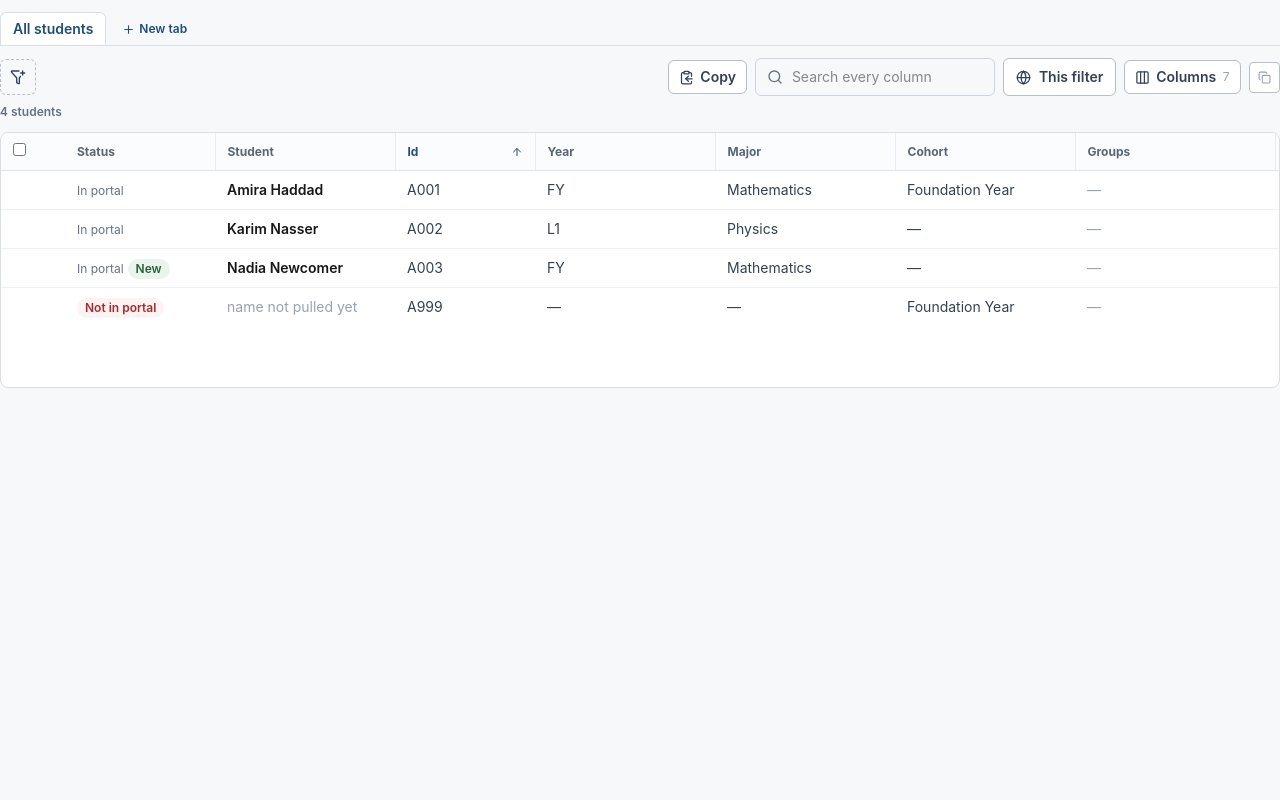
Test case: StudentRoster › column filters › inverts when the operator is changed, keeping the values
The width and height of the screenshot is (1280, 800).
expect the text "Amira Haddad" is shown: met, box [227,181,323,198]
Click the button named "Filter": click(18, 77) [0,59,36,95]
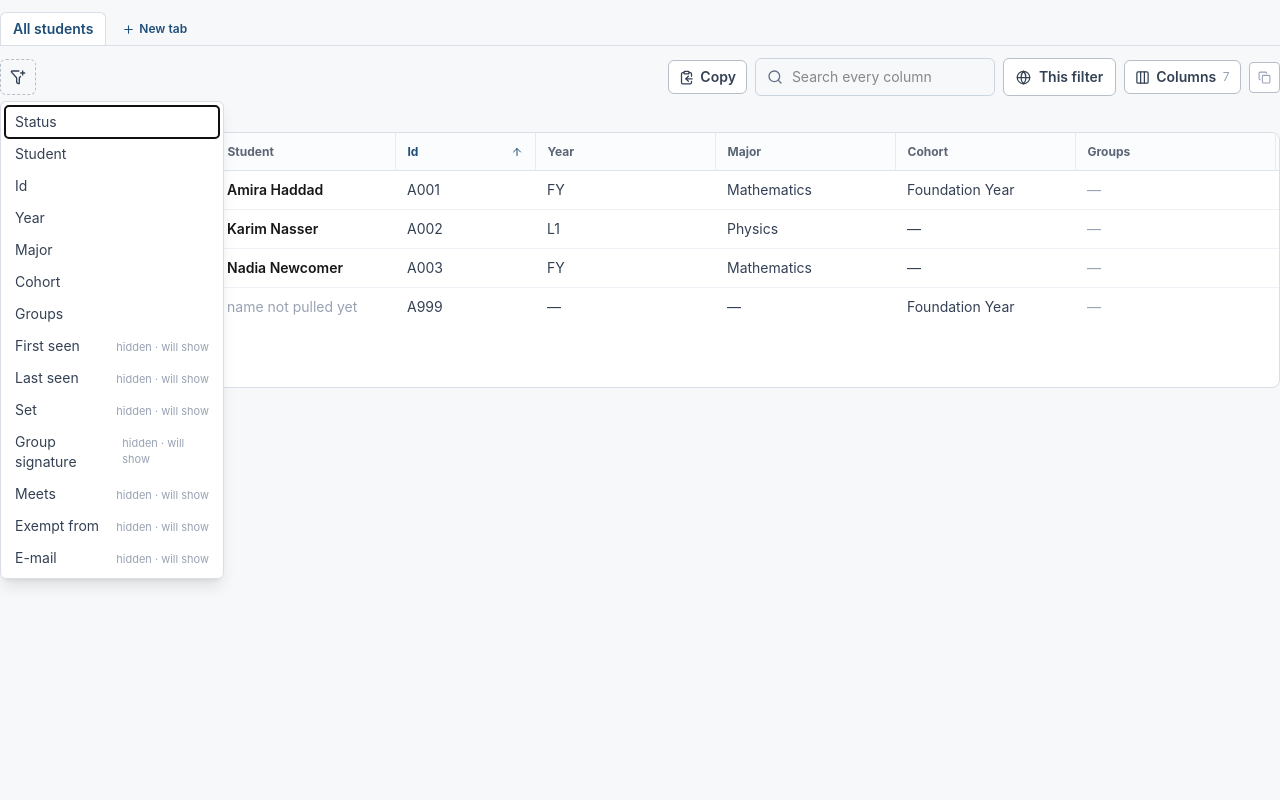
Click the 2nd button "Year": click(112, 218) [5,202,219,234]
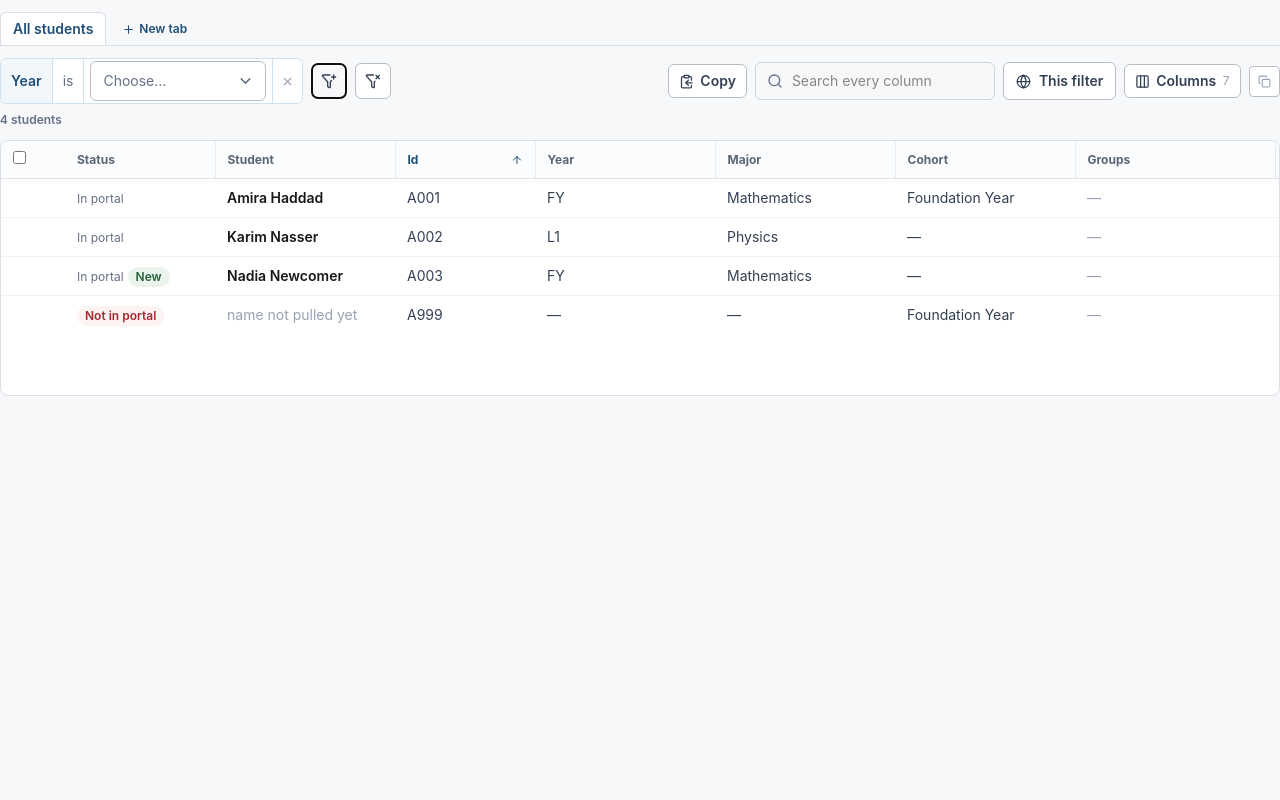
Click the dropdown named "Year value": click(178, 81) [90,61,266,101]
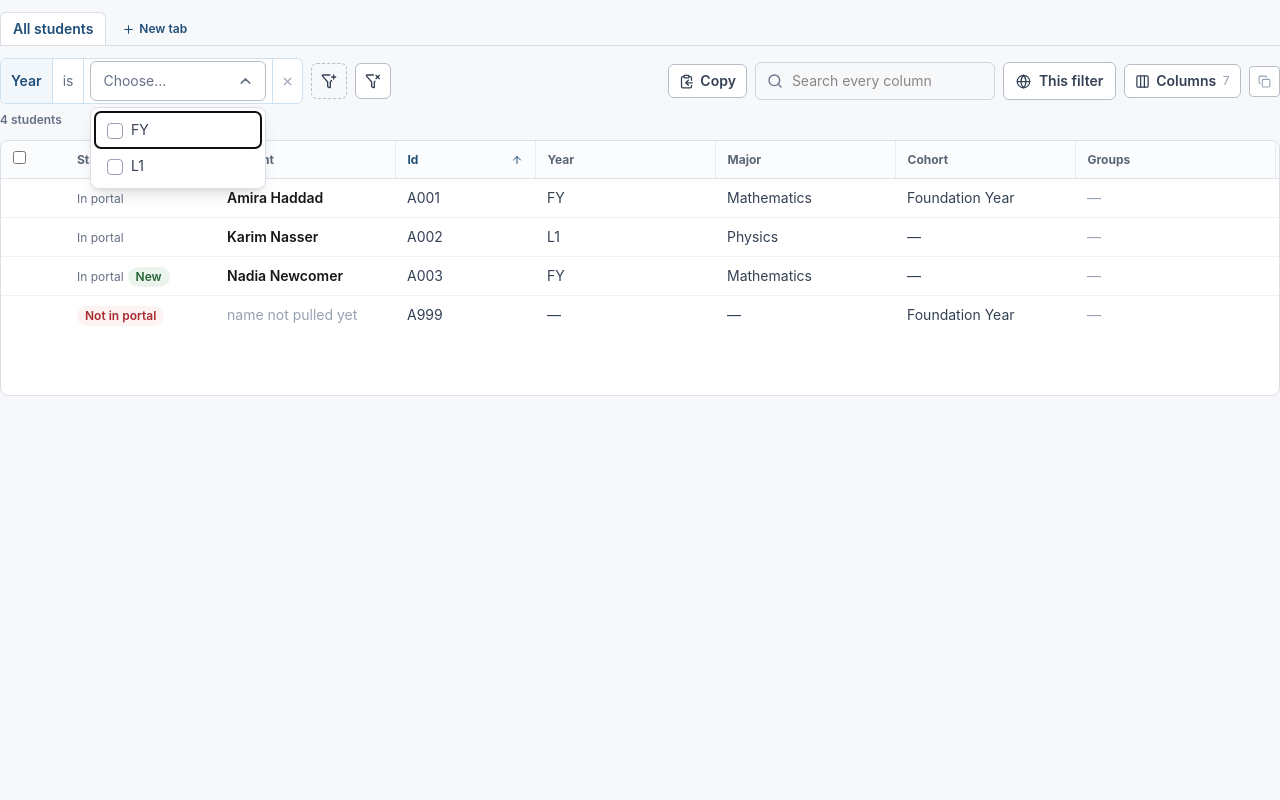
Click the option "L1": click(178, 166) [95,148,261,184]
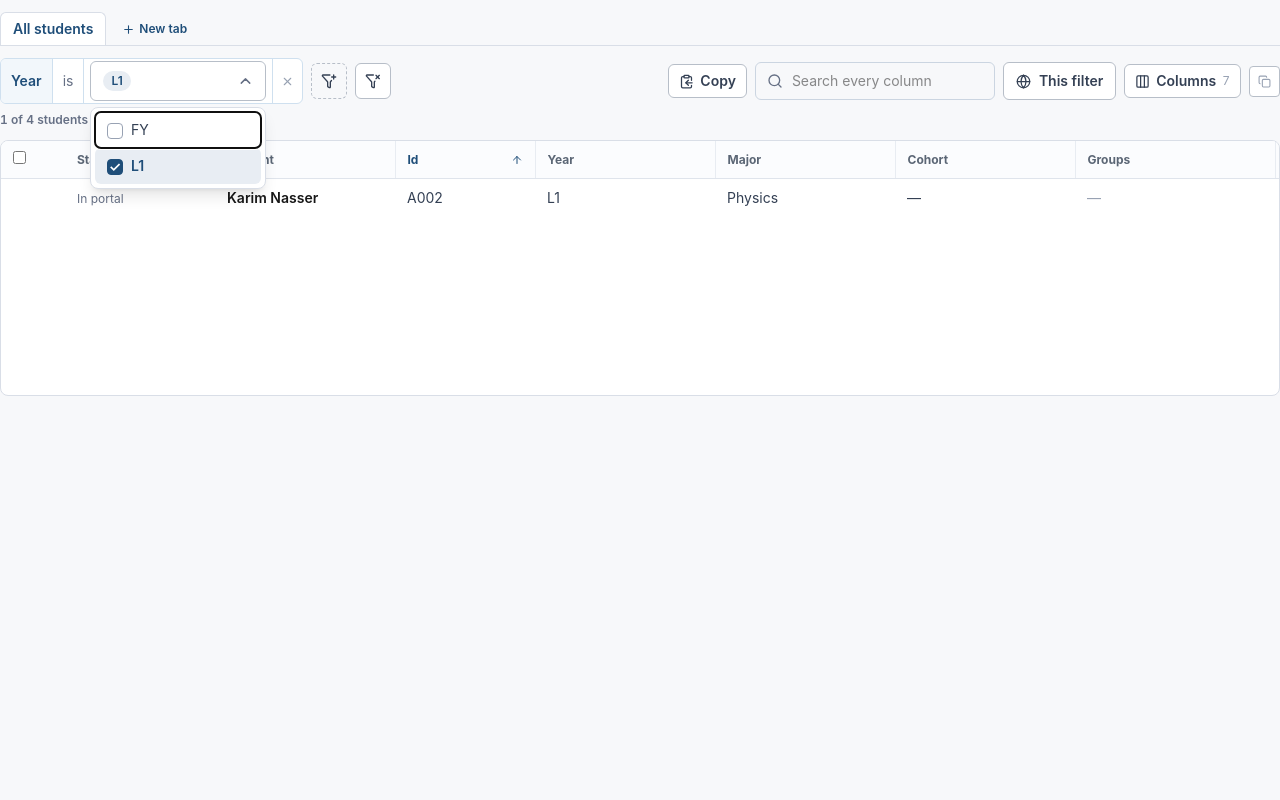
Click the button with aria-label "Year operator": click(68, 81) [53,59,83,103]
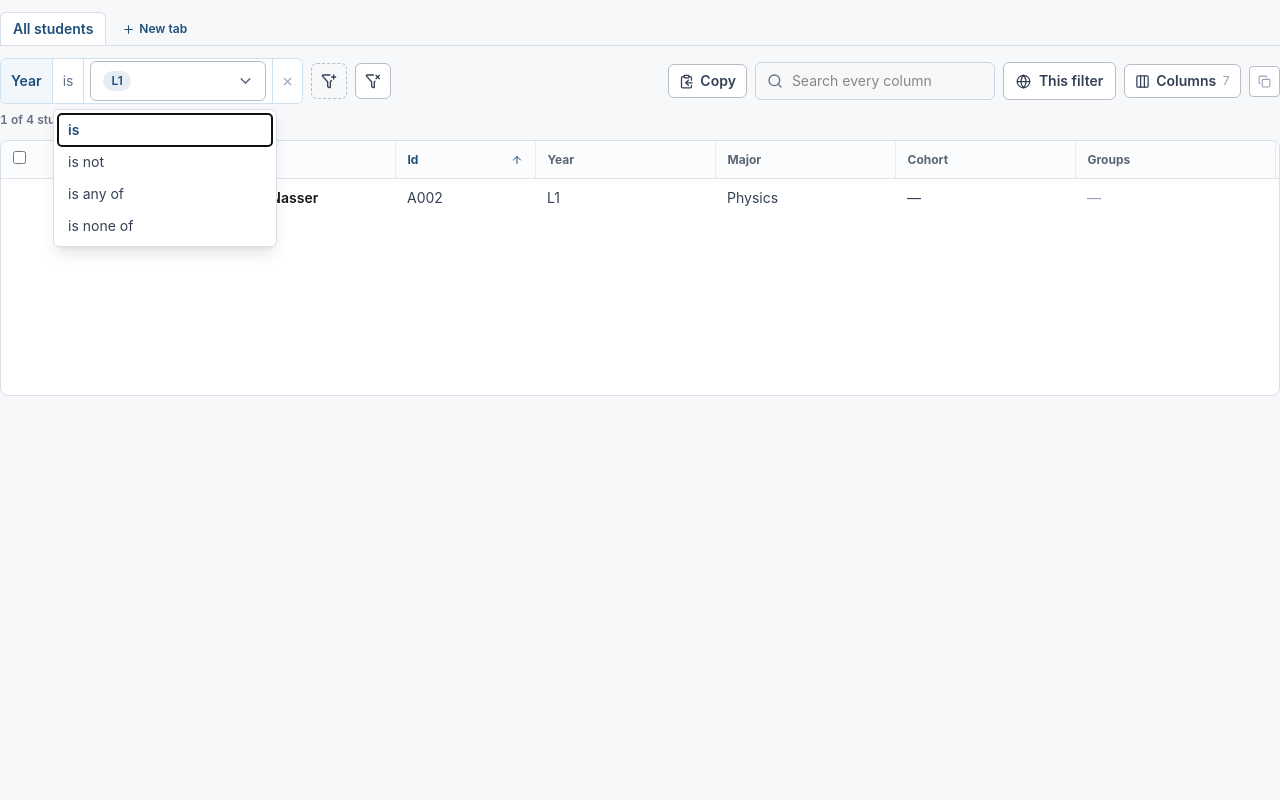
Click the button "is not": click(165, 162) [58,146,272,178]
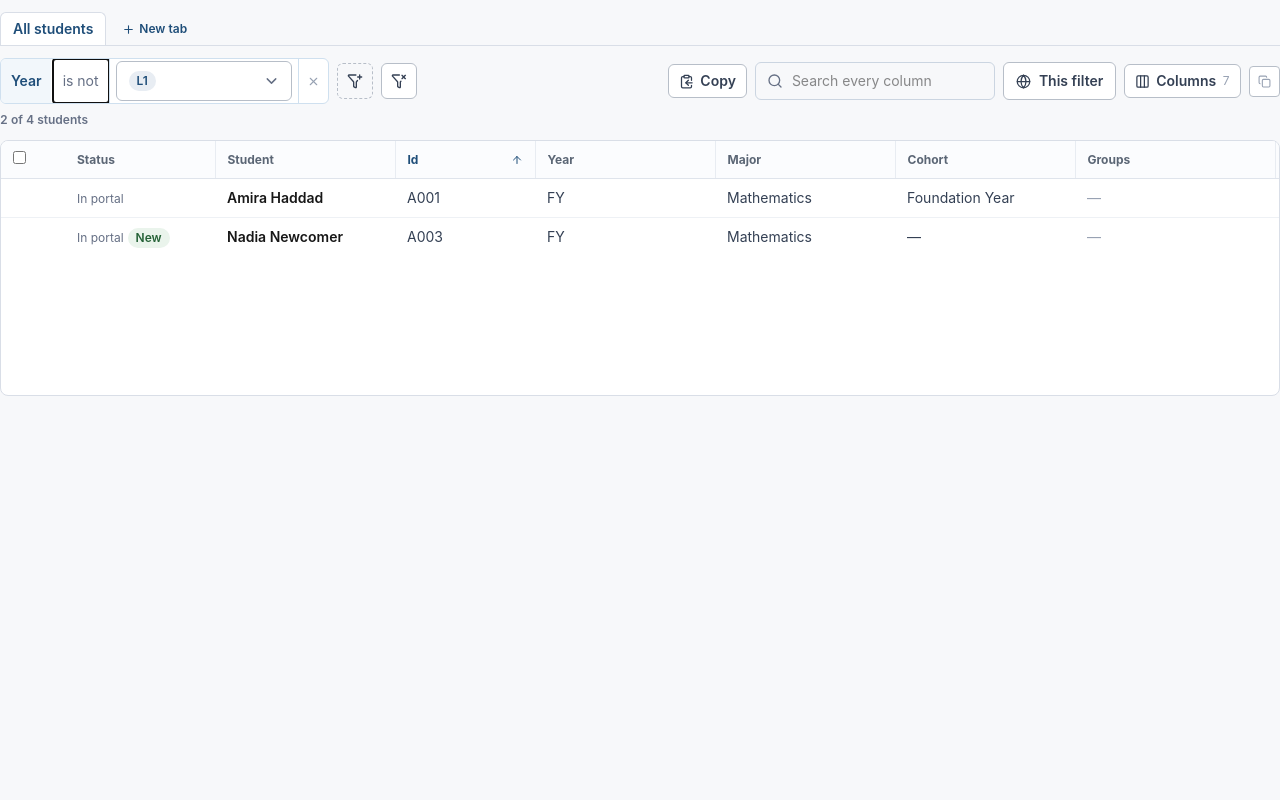
expect the text "Karim Nasser" is gone: met
expect the text "Amira Haddad" is shown: met, box [227,189,323,206]
